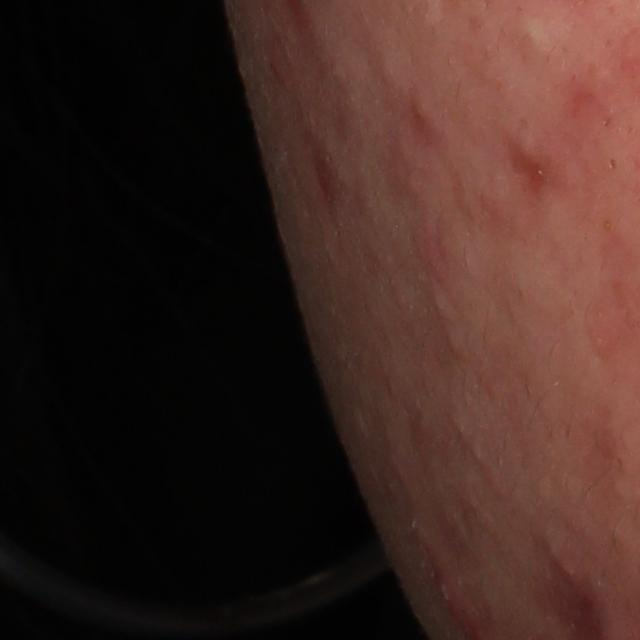comedo: (507, 7, 560, 66), (600, 150, 622, 177)
papule: (430, 569, 472, 622), (407, 96, 442, 139)
